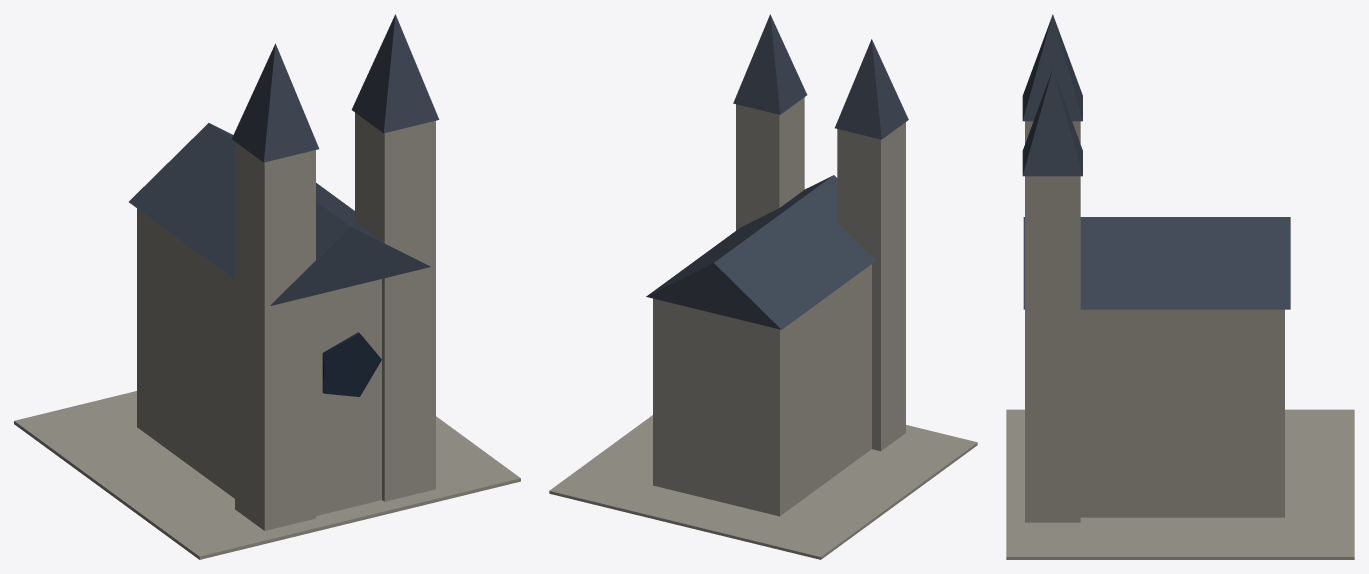
Rendered from bld_special_temple_a03_lod2.glb.
3 renders of one model, left to right at view 1: azimuth 30°, elevation 25°; view 2: azimuth 150°, elevation 25°; view 3: azimuth 270°, elevation 25°, orthographic. The views are drawn at different scales.
Parts seen in each view (by area): view 1: body; view 2: body; view 3: body.
Boxes of the visible parts, <box> form: body: <box>14,14,520,559</box>; body: <box>549,14,977,559</box>; body: <box>1006,14,1354,559</box>.
Bounding box in the file's own units: 15 × 21.15 × 15.
